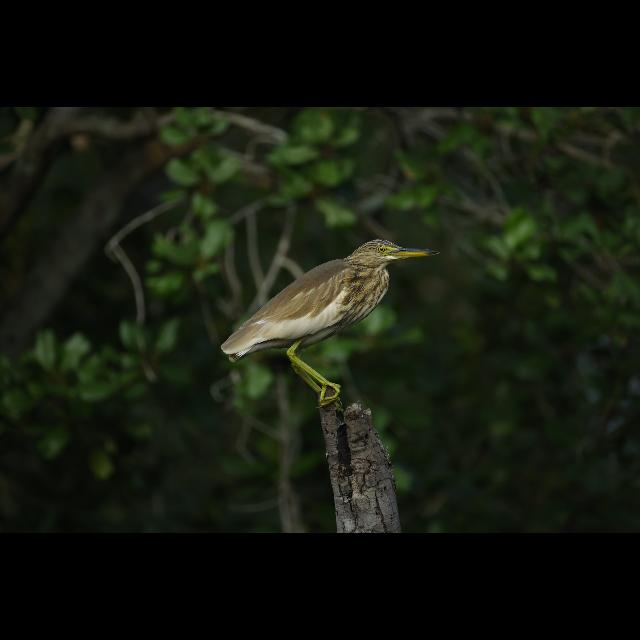heron: (223, 238, 441, 398)
